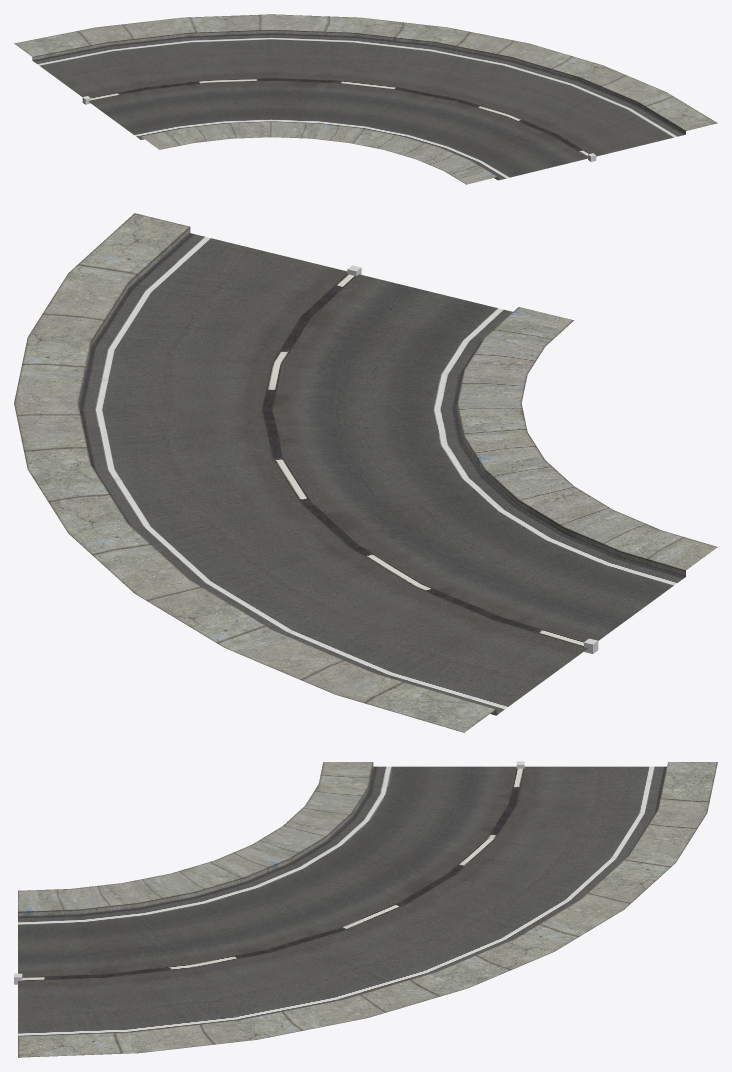
The model's file is roadBend90.L.fbx.
The picture shows the model from 3 angles, top to bottom: view 1: azimuth 30°, elevation 25°; view 2: azimuth 150°, elevation 25°; view 3: azimuth 270°, elevation 25°; orthographic projection. The views are drawn at different scales.
Visible parts, largest first — view 1: MESH roadBend90.L; view 2: MESH roadBend90.L; view 3: MESH roadBend90.L.
Boxes of the visible parts, left/top/right/bottom form: MESH roadBend90.L: left=14, top=14, right=717, bottom=184; MESH roadBend90.L: left=14, top=213, right=717, bottom=732; MESH roadBend90.L: left=18, top=762, right=717, bottom=1057.
Size of what is drawn, in the model's own units: 4281 by 58.34 by 4281.
